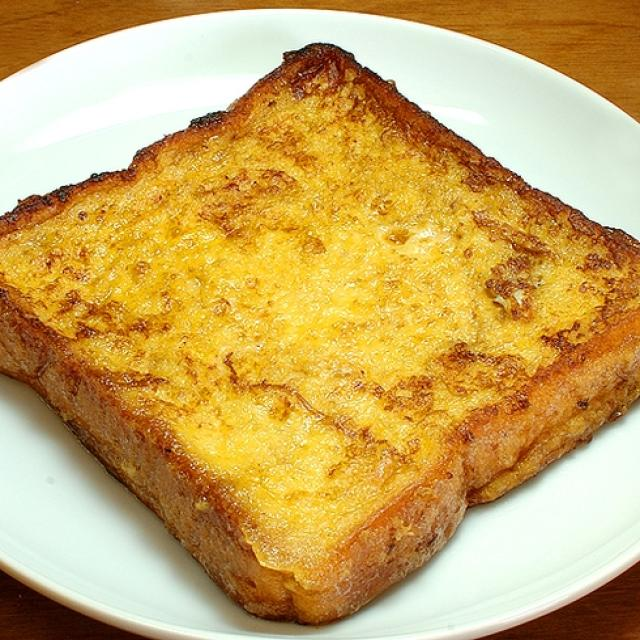面包点心: (4, 20, 635, 624)
